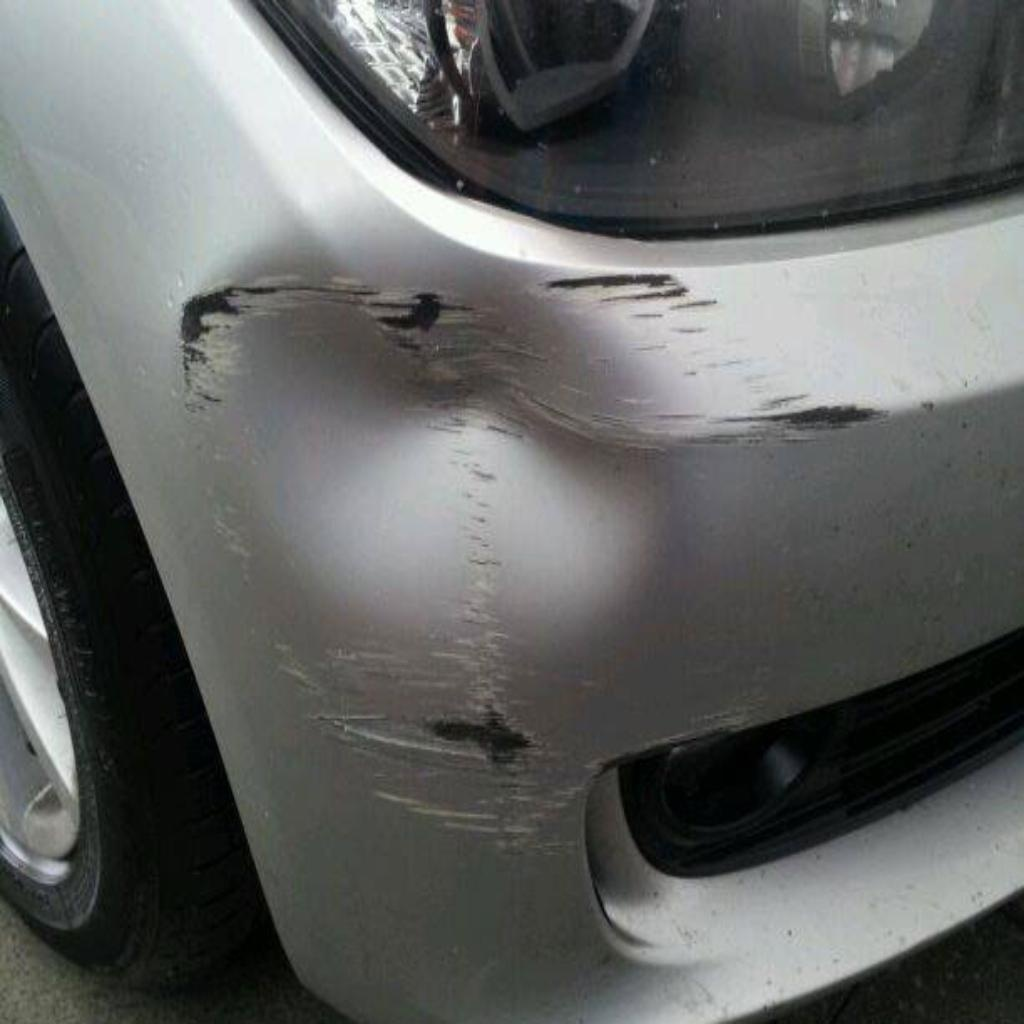Dent: (193, 268, 665, 663)
Scratch: (158, 212, 886, 868)
